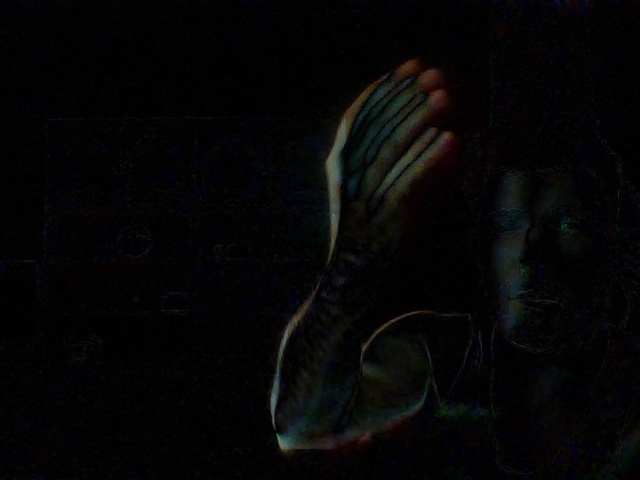arm_fo: (250, 58, 454, 462)
